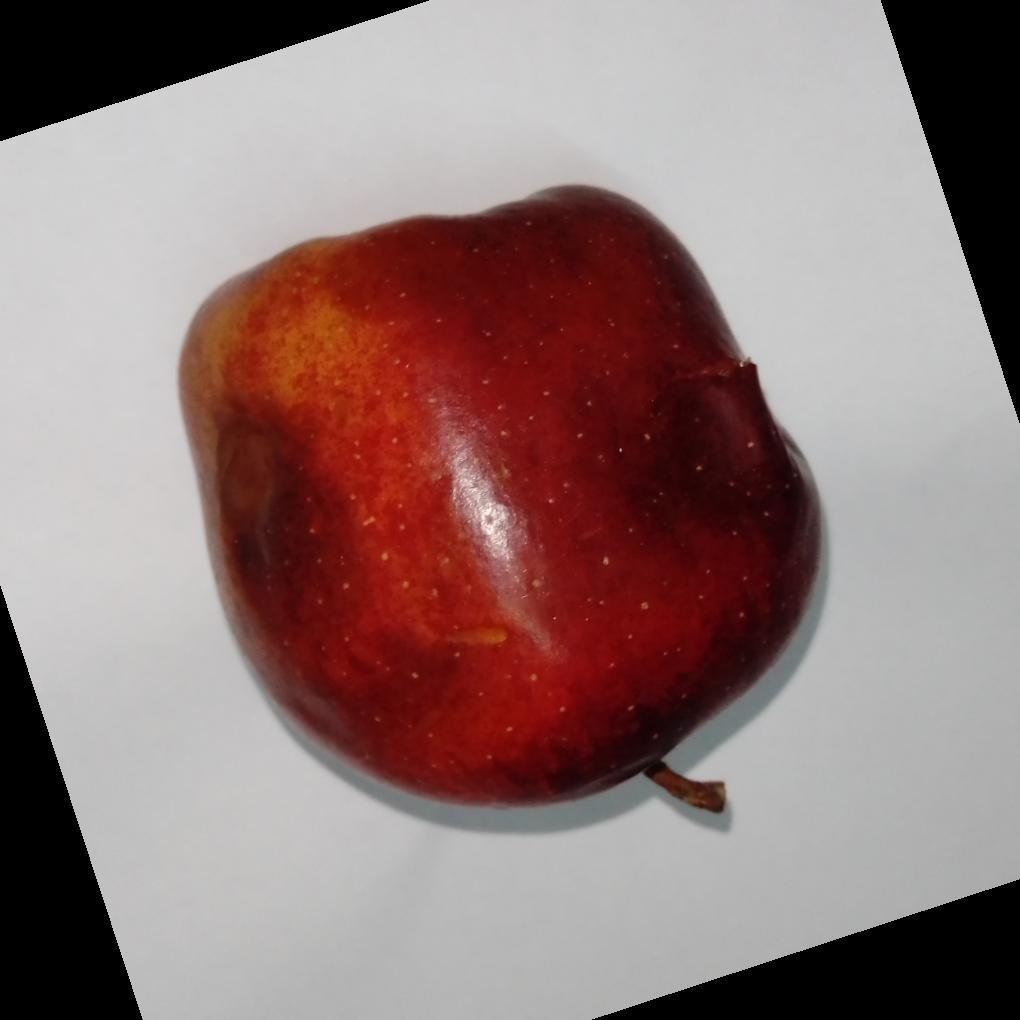FreshOrange: (175, 185, 828, 819)
